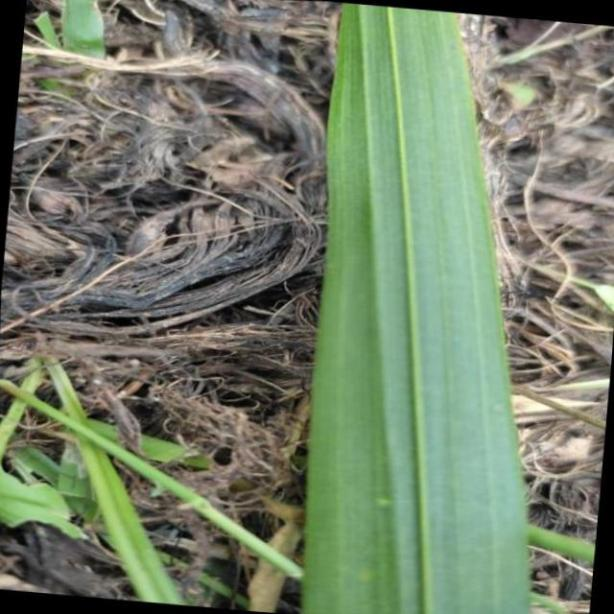Healthy: (302, 0, 529, 614)
